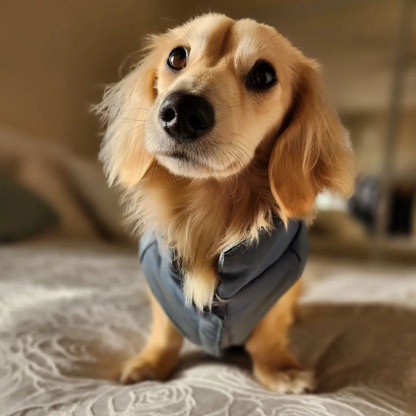dachshund: (80, 19, 366, 397)
